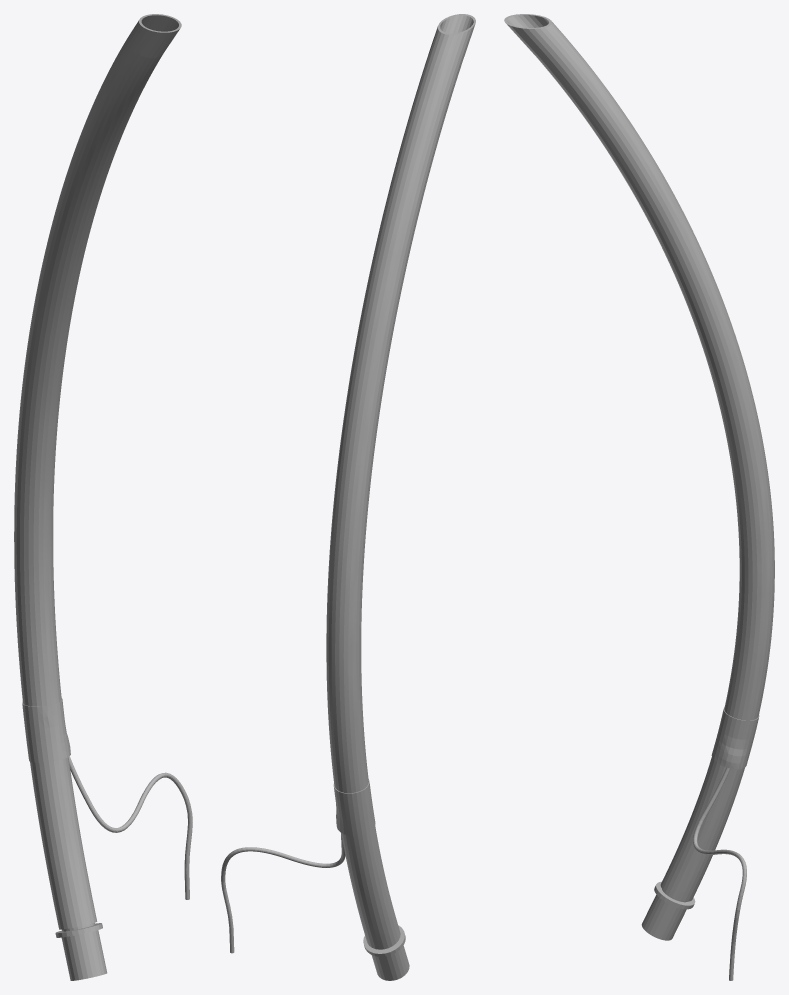
The model's file is 調整過後 看看123.fbx.
3 views of the same model, side by side, from view 1: azimuth 30°, elevation 25°; view 2: azimuth 150°, elevation 25°; view 3: azimuth 270°, elevation 25° (orthographic). The views are drawn at different scales.
Parts seen in each view (by area): view 1: NurbsPath_002_4_0; view 2: NurbsPath_002_4_0; view 3: NurbsPath_002_4_0.
Boxes of the visible parts, x1=… form: NurbsPath_002_4_0: x1=14, y1=14, x2=192, y2=980; NurbsPath_002_4_0: x1=221, y1=14, x2=475, y2=980; NurbsPath_002_4_0: x1=504, y1=14, x2=774, y2=980.
Size of the model in its own units: 4.32 by 24.87 by 6.65.
